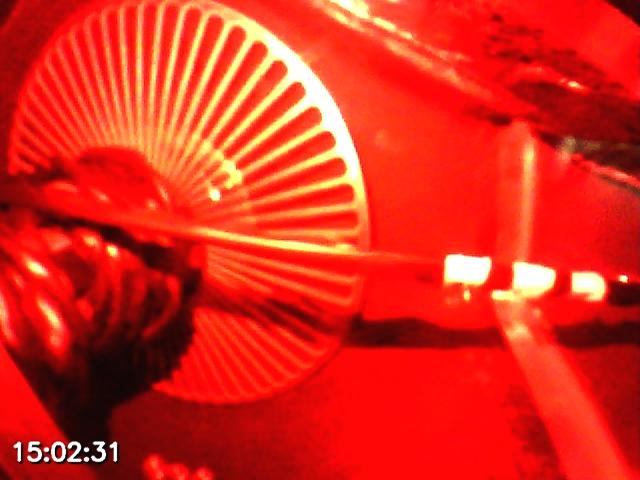white-dots: (442, 253, 607, 303)
